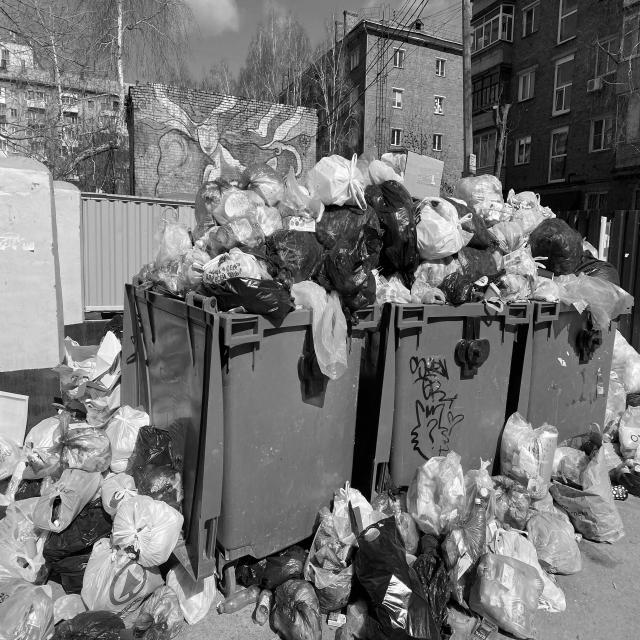bin: (117, 212, 387, 560), (341, 165, 521, 533), (472, 185, 636, 494)
trash: (272, 415, 636, 640), (132, 150, 632, 304), (4, 331, 182, 640)
